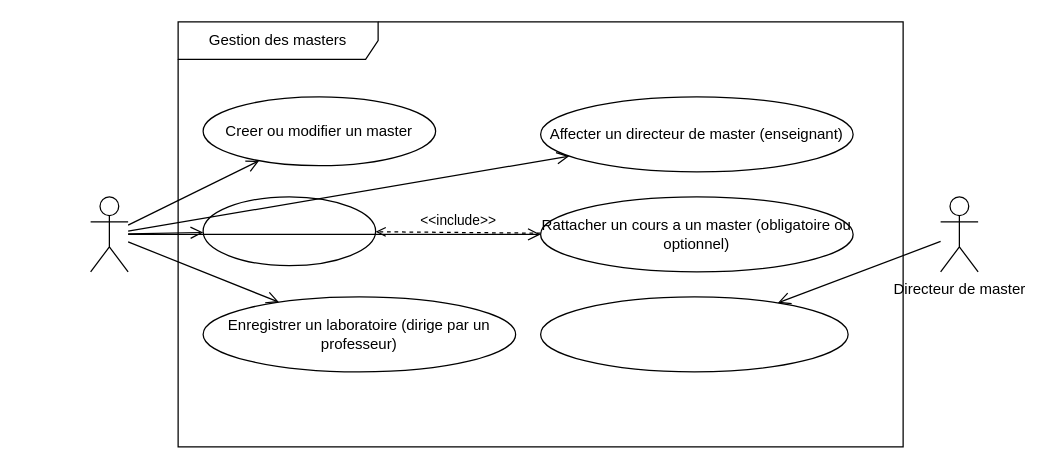
Some shapes in this 1046 by 469 pixel diagram are drawn without their labels. The shapes that lost their labels are listed below. From the top down, each one's box as (x1, y1, x2, y2) in pixels, then its label:
(89, 196, 128, 272): Scolarite ou administration
(202, 196, 376, 266): Referencer un cours
(539, 296, 848, 372): Consulter l offre de cours par master
